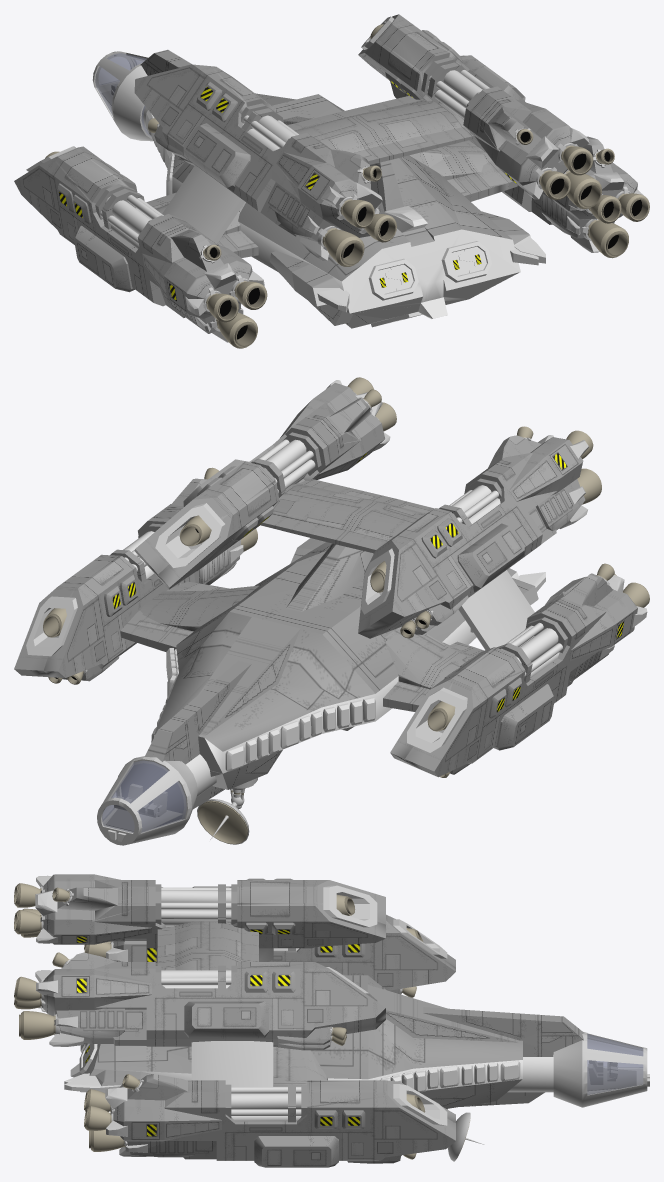
The model's file is galaxy.glb.
3 views of the same model, one above another, from view 1: azimuth 30°, elevation 25°; view 2: azimuth 150°, elevation 25°; view 3: azimuth 270°, elevation 25° (orthographic). The views are drawn at different scales.
Visible parts, largest first — view 1: merchant_ship_raw; view 2: merchant_ship_raw; view 3: merchant_ship_raw.
Boxes of the visible parts, x1,y1,x2,y2 form: merchant_ship_raw: (14,14,649,348); merchant_ship_raw: (14,377,649,845); merchant_ship_raw: (14,874,649,1167).
Bounding box in the file's own units: 3122 × 1791 × 4303.
17 materials, 7 textured.
